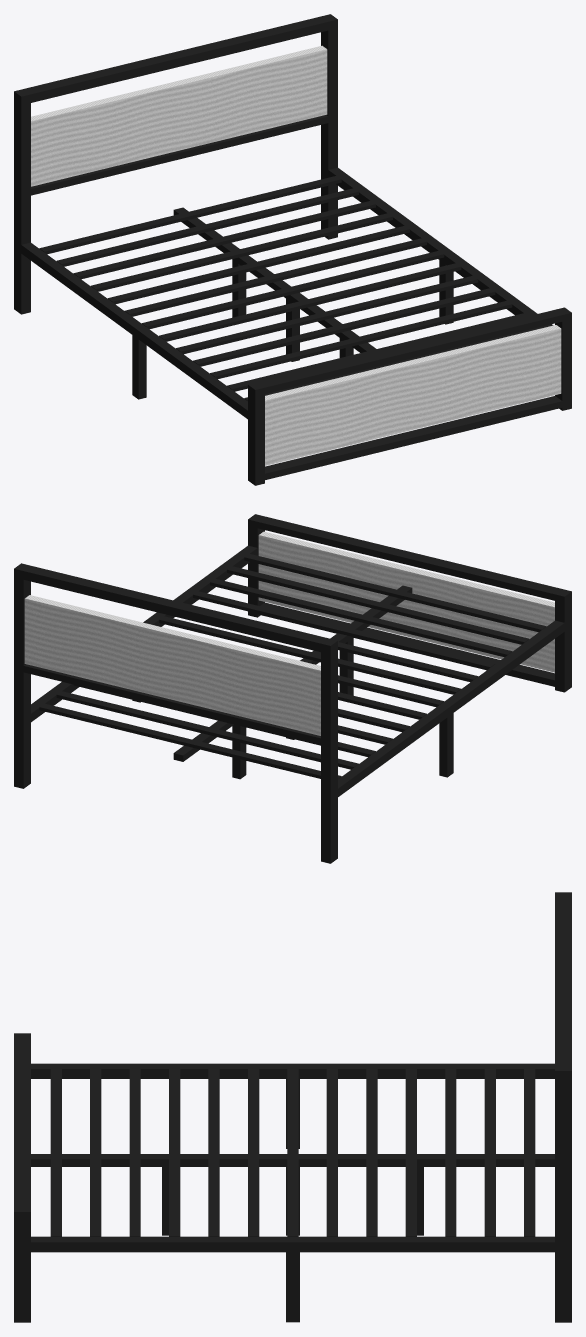
The picture shows the model from 3 angles, top to bottom: view 1: azimuth 30°, elevation 25°; view 2: azimuth 150°, elevation 25°; view 3: azimuth 270°, elevation 25°; orthographic projection. The views are drawn at different scales.
Parts seen in each view (by area): view 1: 5 headboard_wood_panel, 10 footboard_wood_panel, 3 headboard_top_rail, 8 footboard_top_rail, 9 footboard_bottom_rail, 11 left_side_rail, 1 headboard_left_post, 12 right_side_rail, 4 headboard_lower_rail, 2 headboard_right_post, 28 slat_10, 25 slat_7 (+15 smaller); view 2: 5 headboard_wood_panel, 10 footboard_wood_panel, 3 headboard_top_rail, 8 footboard_top_rail, 11 left_side_rail, 1 headboard_left_post, 2 headboard_right_post, 4 headboard_lower_rail, 31 slat_13, 29 slat_11, 30 slat_12, 28 slat_10 (+17 smaller); view 3: 12 right_side_rail, 11 left_side_rail, 13 center_support_beam, 2 headboard_right_post, 8 footboard_top_rail, 3 headboard_top_rail, 19 slat_1, 20 slat_2, 21 slat_3, 22 slat_4, 23 slat_5, 24 slat_6 (+9 smaller).
Part boxes in pixels (<box>): 5 headboard_wood_panel: <box>31,45,327,186</box>; 10 footboard_wood_panel: <box>265,325,561,465</box>; 3 headboard_top_rail: <box>22,16,329,103</box>; 8 footboard_top_rail: <box>256,309,563,394</box>; 9 footboard_bottom_rail: <box>263,396,563,480</box>; 11 left_side_rail: <box>21,242,248,419</box>; 1 headboard_left_post: <box>14,89,30,314</box>; 12 right_side_rail: <box>328,167,553,327</box>; 4 headboard_lower_rail: <box>29,115,329,195</box>; 2 headboard_right_post: <box>321,14,337,239</box>; 28 slat_10: <box>193,288,495,366</box>; 25 slat_7: <box>142,250,444,329</box>; 5 headboard_wood_panel: <box>24,595,320,735</box>; 10 footboard_wood_panel: <box>258,531,554,672</box>; 3 headboard_top_rail: <box>22,565,329,652</box>; 8 footboard_top_rail: <box>256,516,563,600</box>; 11 left_side_rail: <box>338,620,565,796</box>; 1 headboard_left_post: <box>321,638,337,863</box>; 2 headboard_right_post: <box>14,563,30,788</box>; 4 headboard_lower_rail: <box>22,664,322,745</box>; 31 slat_13: <box>244,553,546,632</box>; 29 slat_11: <box>210,578,512,657</box>; 30 slat_12: <box>227,566,529,644</box>; 28 slat_10: <box>193,591,494,669</box>; 12 right_side_rail: <box>28,1236,557,1252</box>; 11 left_side_rail: <box>31,1063,554,1078</box>; 13 center_support_beam: <box>31,1154,554,1166</box>; 2 headboard_right_post: <box>555,1065,571,1322</box>; 8 footboard_top_rail: <box>14,1037,30,1207</box>; 3 headboard_top_rail: <box>555,896,571,1066</box>; 19 slat_1: <box>524,1068,535,1236</box>; 20 slat_2: <box>484,1068,495,1236</box>; 21 slat_3: <box>445,1068,456,1236</box>; 22 slat_4: <box>405,1068,416,1236</box>; 23 slat_5: <box>366,1068,377,1236</box>; 24 slat_6: <box>326,1068,337,1236</box>.
Size of the model in its own units: 1.52 by 1 by 2.01.
Materials: 2 (1 with a texture image).
